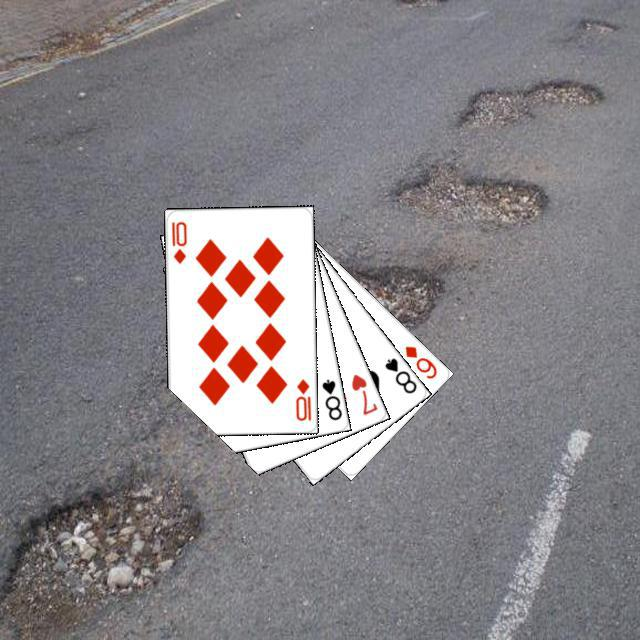10d: (166, 217, 188, 265), (291, 374, 312, 422)
6d: (400, 341, 439, 380)
7h: (346, 369, 379, 417)
8s: (380, 353, 419, 395), (317, 374, 343, 422)
